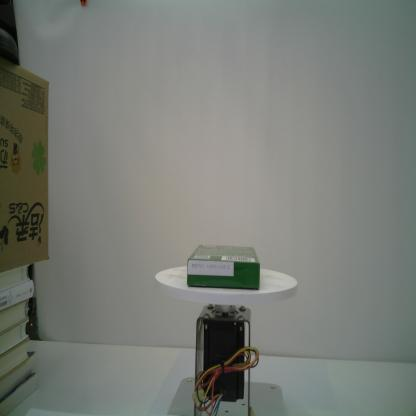Dessert: (186, 244, 260, 291)
